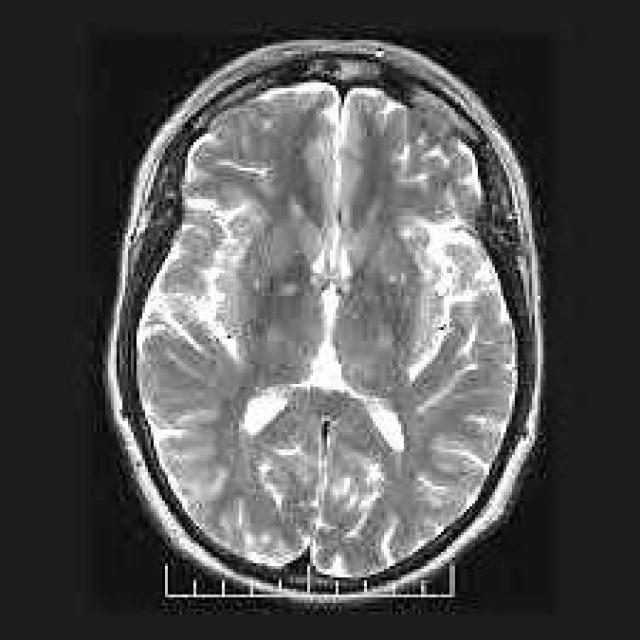notumor: (108, 40, 538, 603)
